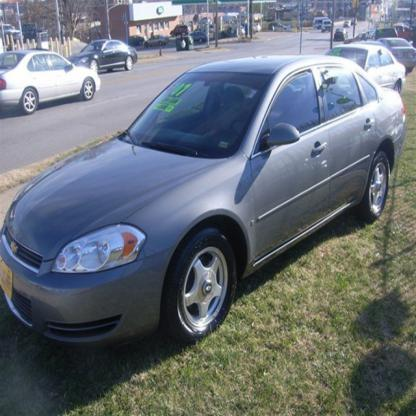Vehicle: (1, 54, 406, 348)
